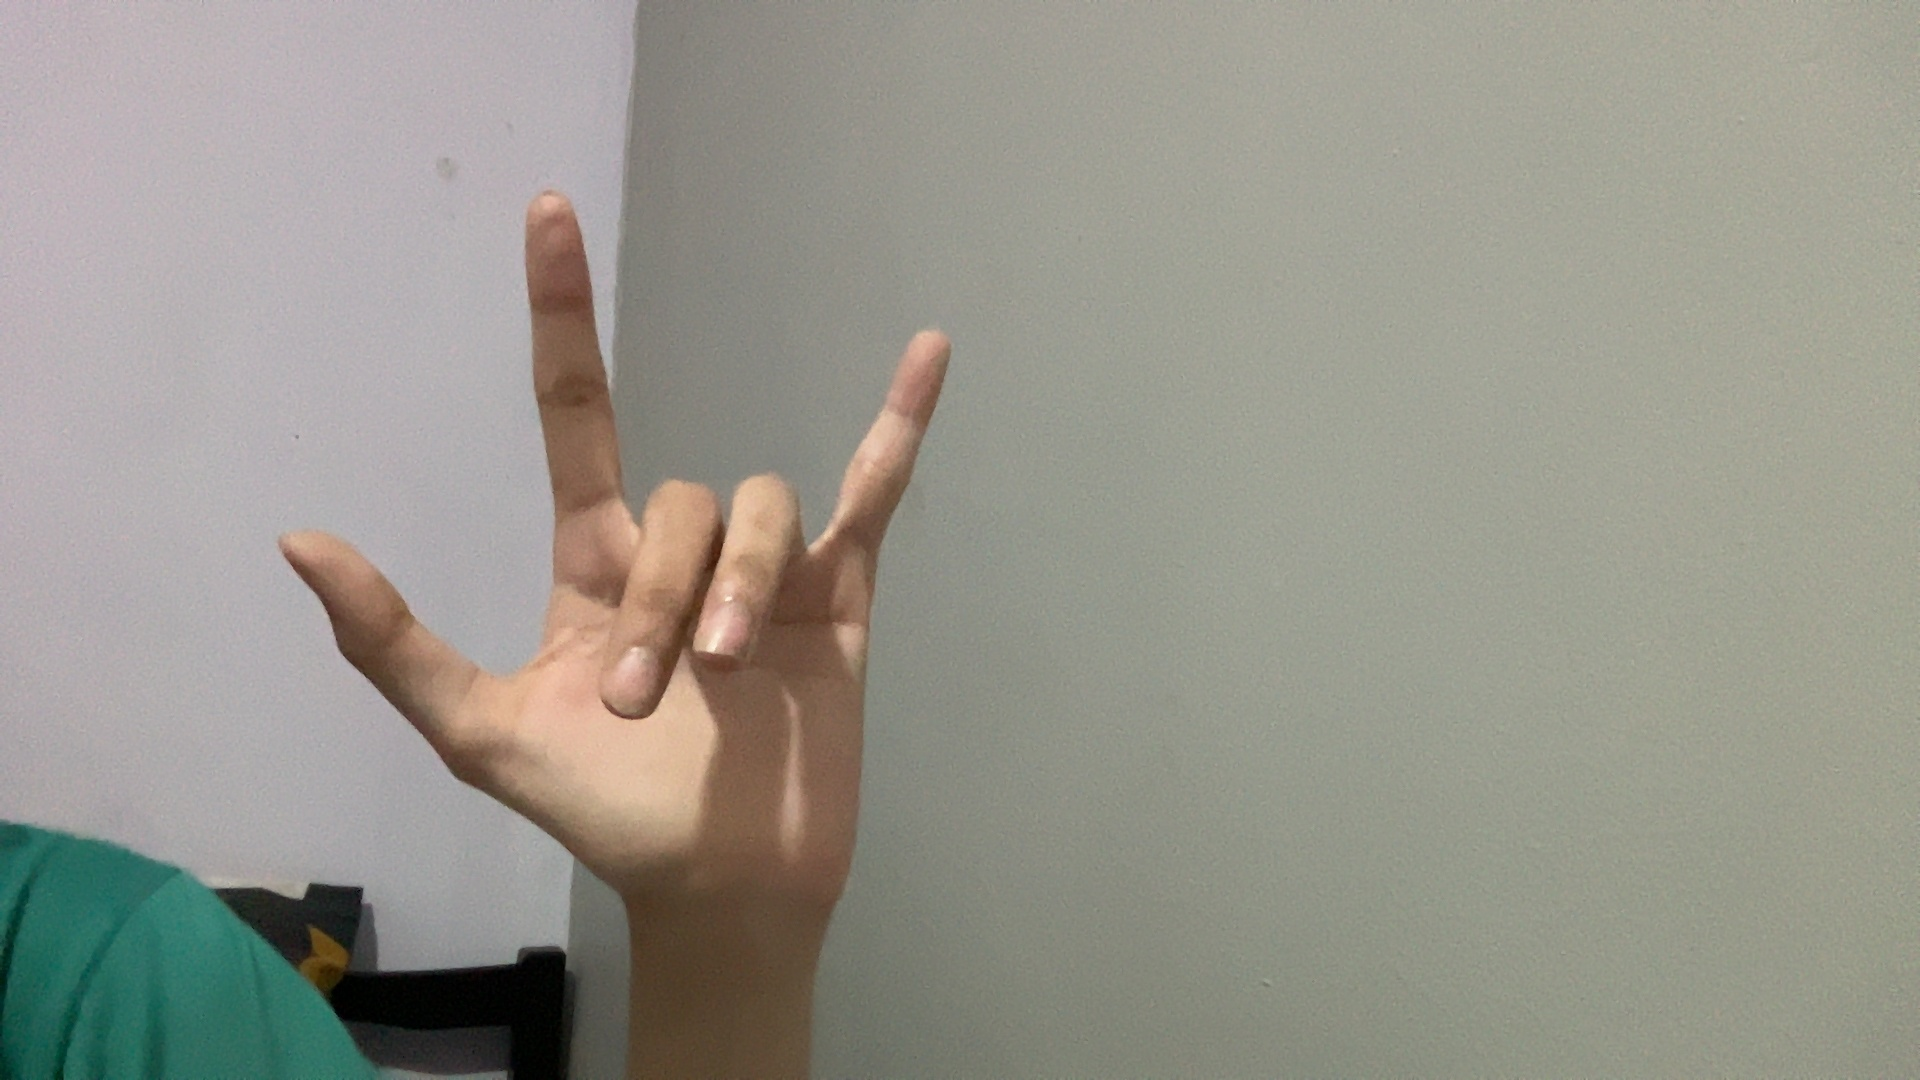I Love You: (179, 142, 1193, 975)
